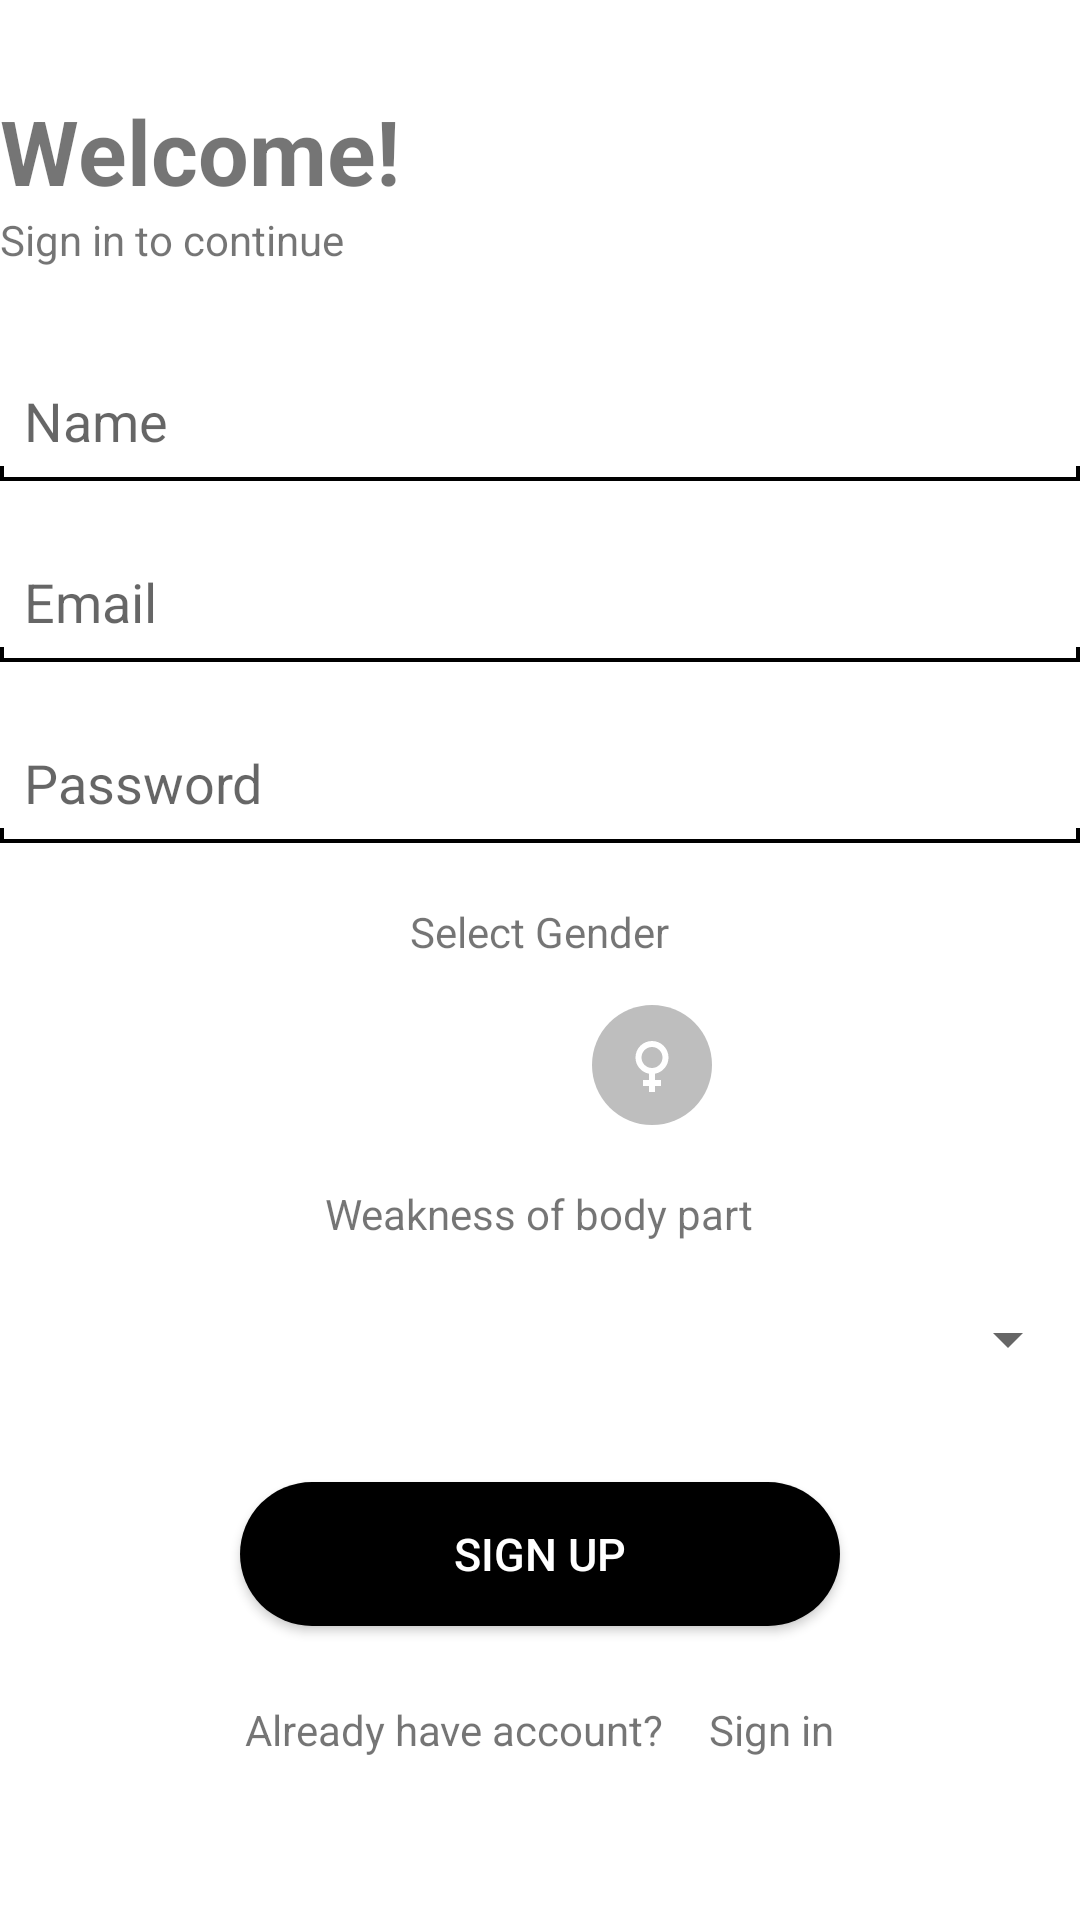

Locate icon controls on the screen. Image size 1080×1920, boxes as (x1, y1, x2, y2).
female: (592, 1005, 712, 1125)
